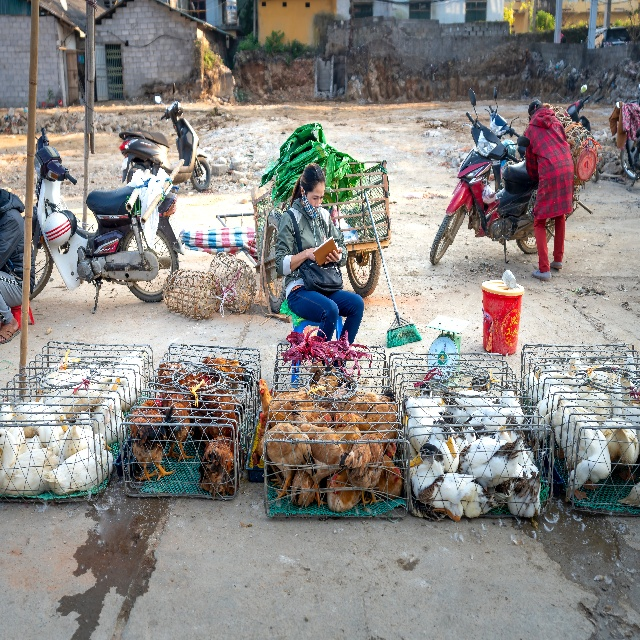Sin_guantes: (324, 247, 342, 264), (307, 247, 318, 261)
